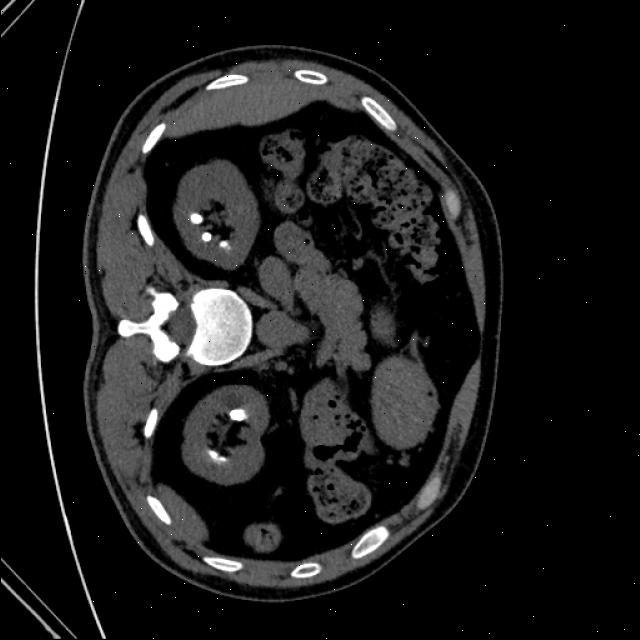kidneystone: (228, 408, 246, 421), (207, 450, 226, 462), (191, 212, 200, 224), (202, 231, 211, 242), (218, 241, 229, 249)
